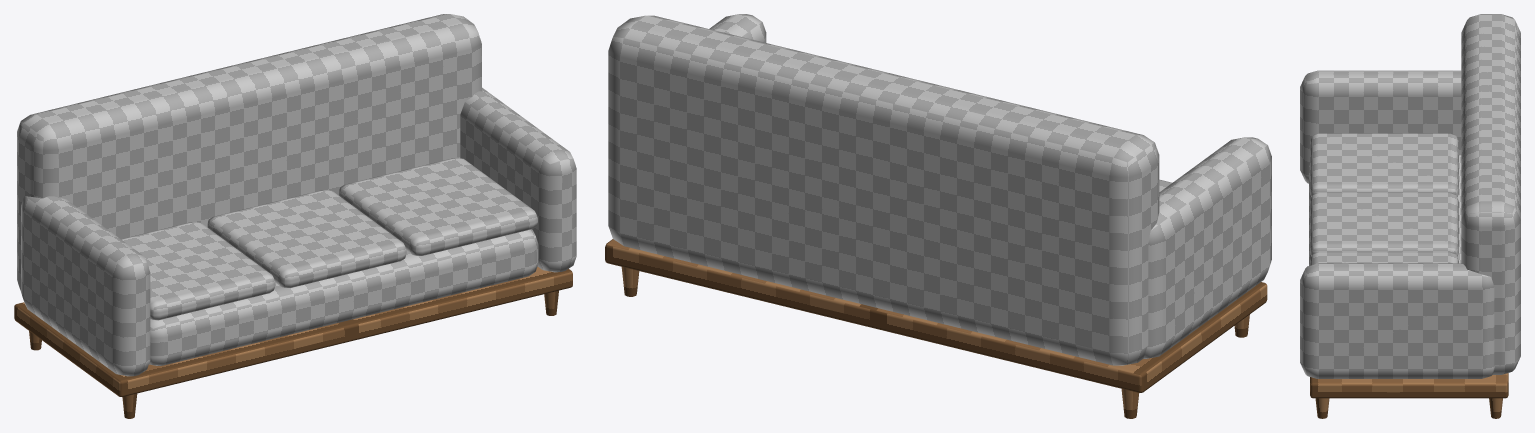
The model's file is sofa.glb.
3 views of the same model, side by side, from view 1: azimuth 30°, elevation 25°; view 2: azimuth 150°, elevation 25°; view 3: azimuth 270°, elevation 25° (orthographic). The views are drawn at different scales.
Parts seen in each view (by area): view 1: dyn_velvet_variant, dyn_wood_variant; view 2: dyn_velvet_variant, dyn_wood_variant; view 3: dyn_velvet_variant, dyn_wood_variant.
Boxes of the visible parts, x1,y1,x2,y2 form: dyn_velvet_variant: [17, 14, 576, 376]; dyn_wood_variant: [14, 266, 572, 418]; dyn_velvet_variant: [608, 14, 1271, 365]; dyn_wood_variant: [605, 239, 1267, 418]; dyn_velvet_variant: [1300, 14, 1520, 378]; dyn_wood_variant: [1310, 373, 1508, 418].
Size of the model in its own units: 2 by 0.9504 by 0.8905.
Materials: 2 (2 with a texture image).
